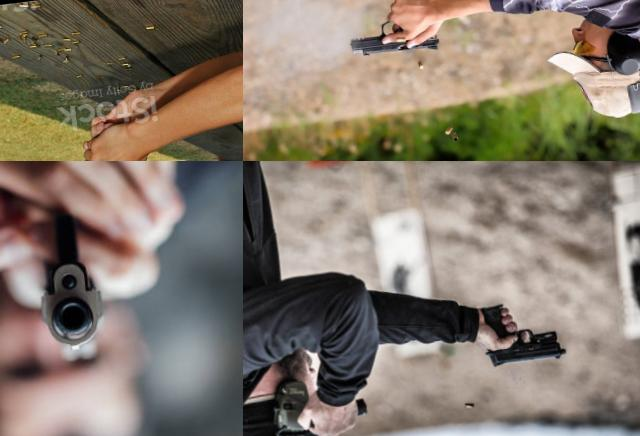handgun: (20, 192, 114, 366), (476, 290, 570, 371), (2, 114, 154, 161), (341, 0, 443, 61)
